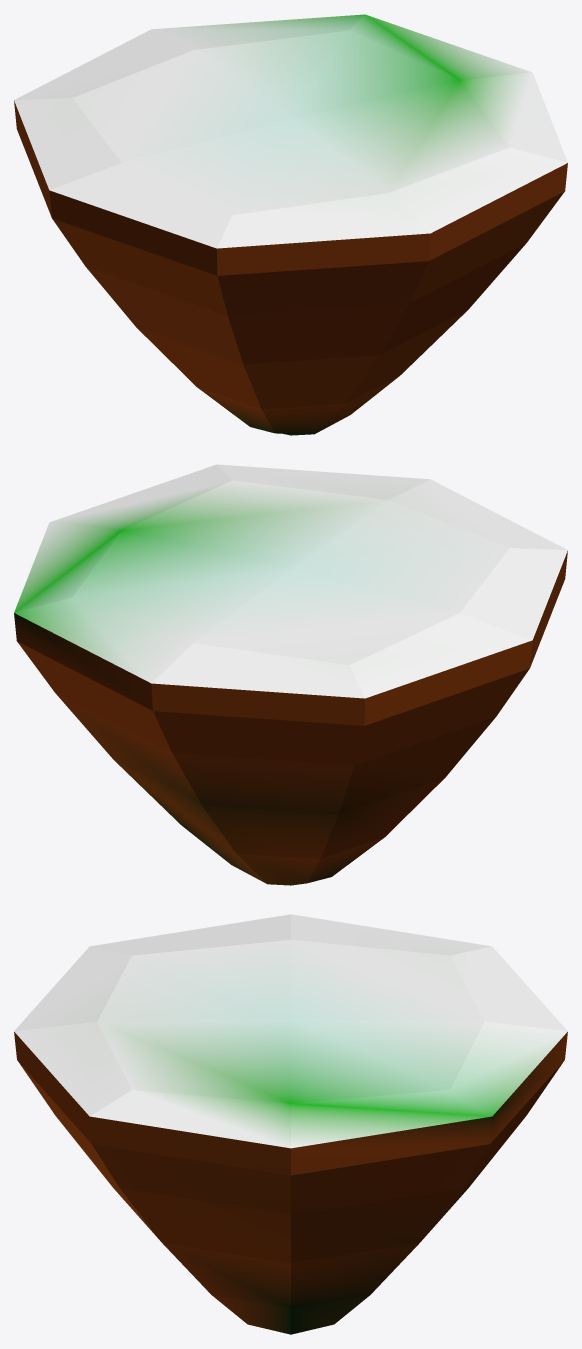
File: snowIsland.fbx
3 renders of one model, top to bottom at view 1: azimuth 30°, elevation 25°; view 2: azimuth 150°, elevation 25°; view 3: azimuth 270°, elevation 25°, orthographic.
Parts seen in each view (by area): view 1: Cube.001; view 2: Cube.001; view 3: Cube.001.
Part boxes in pixels (x1=…): Cube.001: x1=14, y1=14, x2=567, y2=435; Cube.001: x1=14, y1=464, x2=567, y2=885; Cube.001: x1=14, y1=914, x2=567, y2=1334.
Bounding box in the file's own units: 4625 × 2893 × 4625.
